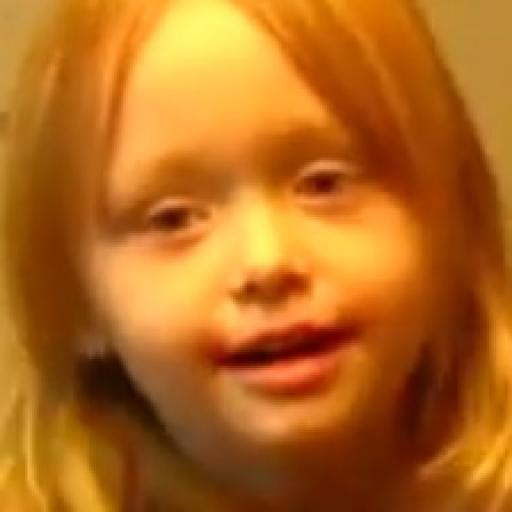Autism: (54, 4, 477, 512)
